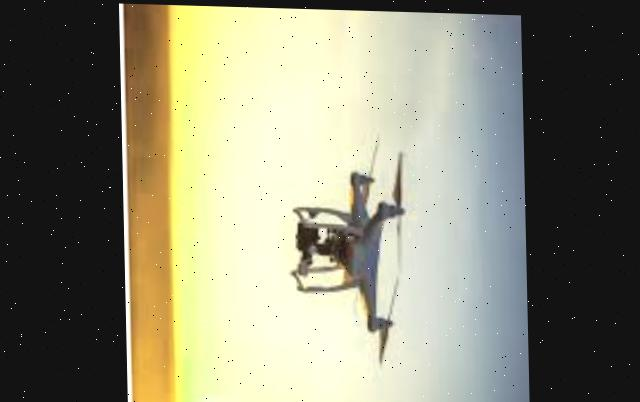drone: (279, 125, 419, 359)
